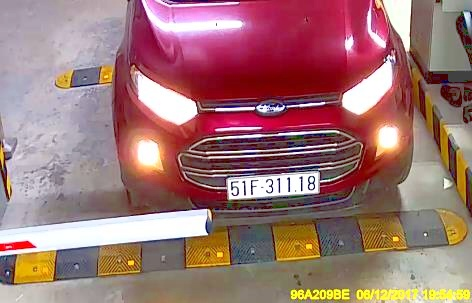plate: (225, 173, 320, 200)
